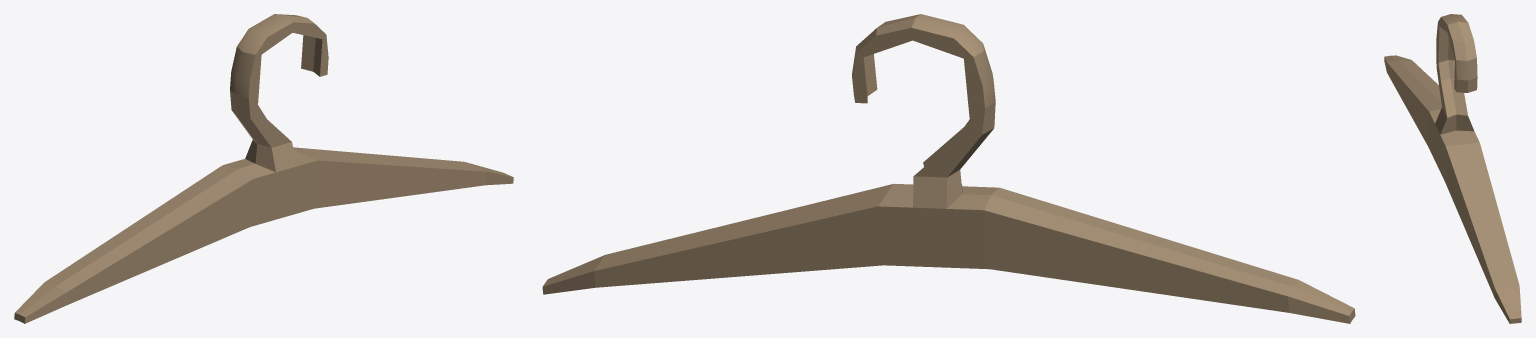
The model's file is Hanger.fbx.
3 views of the same model, side by side, from view 1: azimuth 30°, elevation 25°; view 2: azimuth 150°, elevation 25°; view 3: azimuth 270°, elevation 25° (orthographic). The views are drawn at different scales.
Visible parts, largest first — view 1: pCube48; view 2: pCube48; view 3: pCube48.
Boxes of the visible parts, bbox=[...] form: pCube48: bbox=[14, 14, 513, 323]; pCube48: bbox=[542, 14, 1355, 323]; pCube48: bbox=[1384, 14, 1521, 323].
Size of the model in its own units: 26.72 by 11.44 by 7.06.
